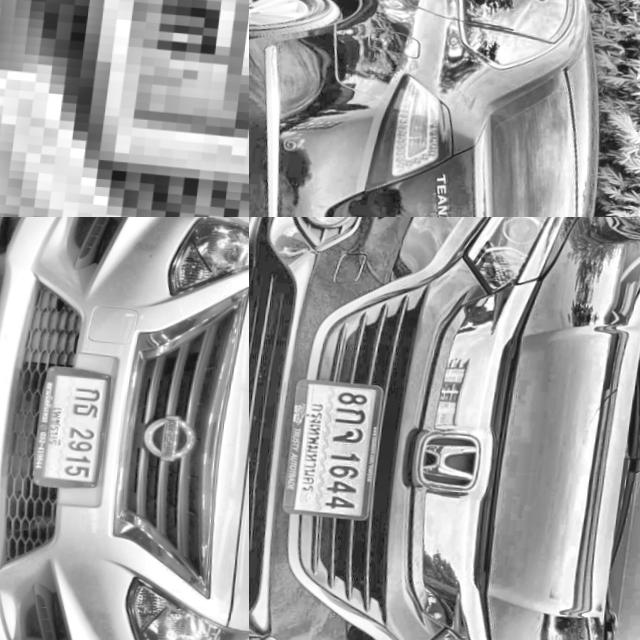license-plate: (30, 0, 249, 214), (286, 376, 388, 519), (32, 363, 120, 492)
